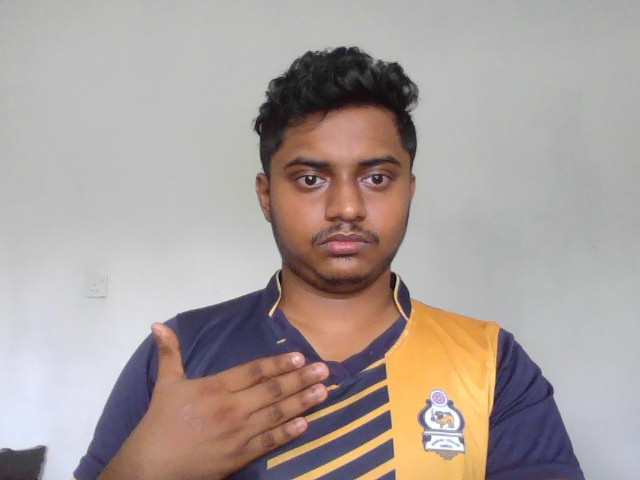Please: (138, 319, 331, 480)
